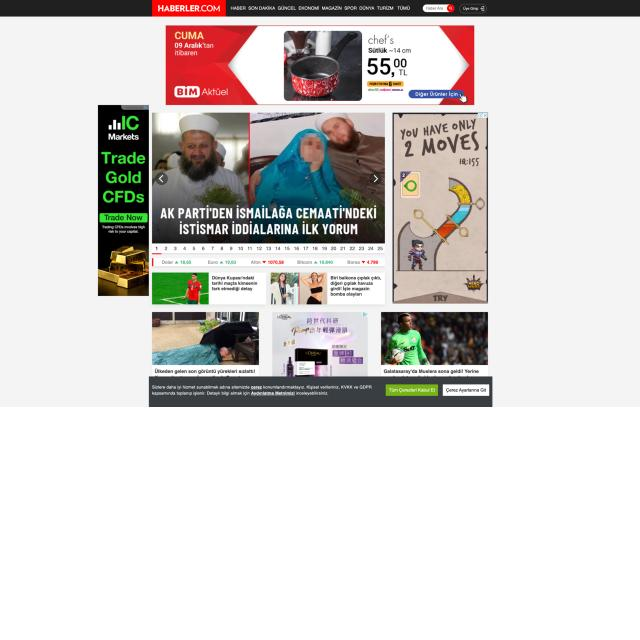input: (422, 4, 454, 12)
logo: (151, 0, 225, 17)
navigation: (230, 4, 412, 12)
